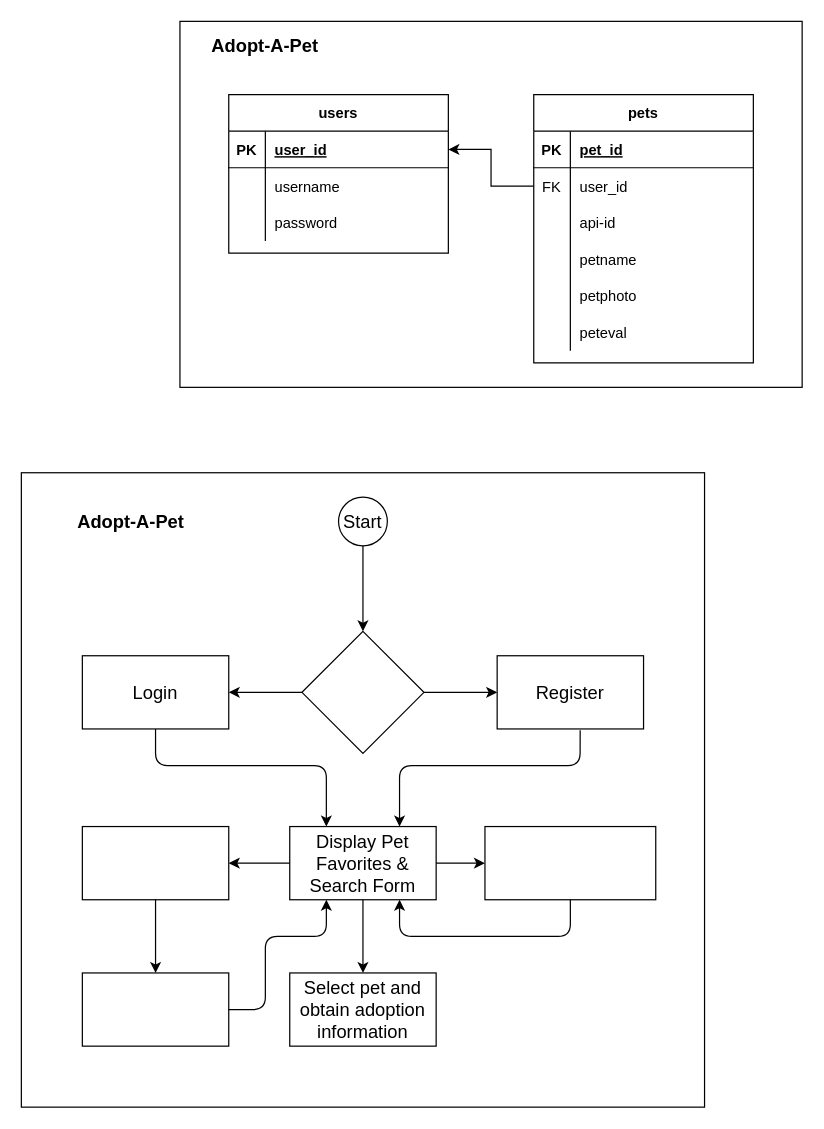
Image size: 824x1129. Some labels were removed from this diagram. The centre of each missing label's shape, as x and y in pixels:
Edit pet evaluation or delete pet from favorites: (570,862)
Evaluate pet & enter in favorites: (155,1009)
Registered?: (362,691)
Select pet to display: (155,862)
